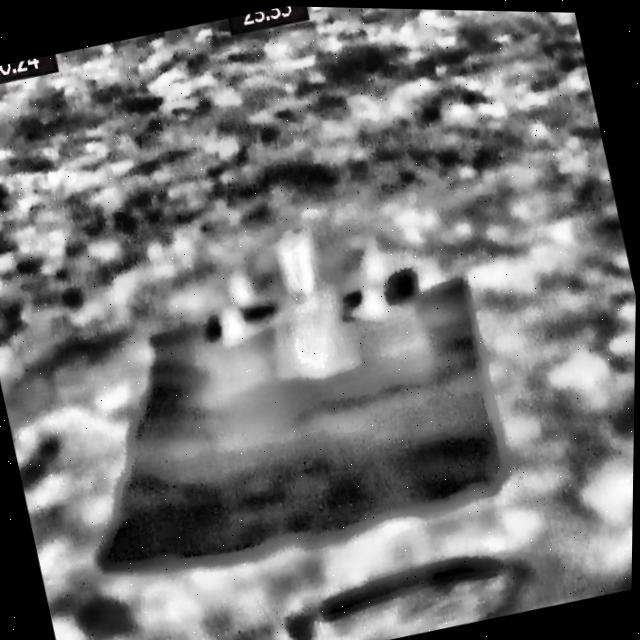drone: (203, 209, 417, 406)
